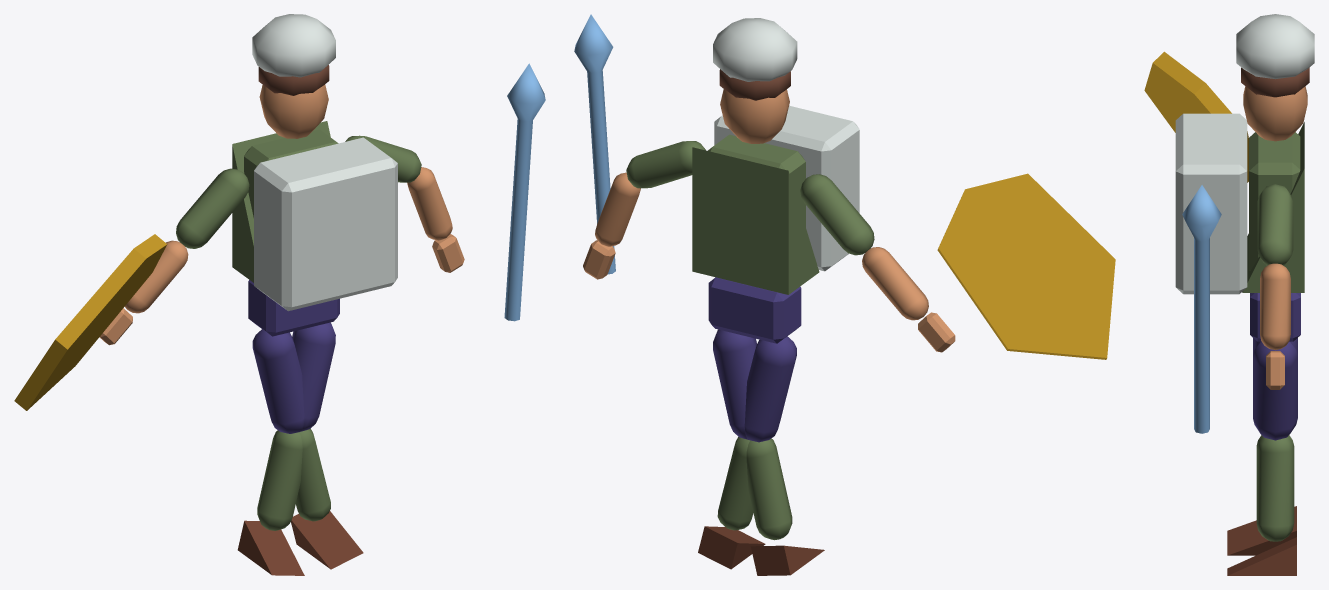
Rendered from adventurer.rustic.glb.
The picture shows the model from 3 angles, left to right: view 1: azimuth 30°, elevation 25°; view 2: azimuth 150°, elevation 25°; view 3: azimuth 270°, elevation 25°; orthographic projection.
Visible parts, largest first — view 1: accessory.body, accessory.off-hand, accessory.main-hand, accessory.head, thigh.left, shin.right, upper-arm.left, thigh.right, head, pelvis, foot.left, tunic (+8 smaller); view 2: accessory.off-hand, tunic, accessory.body, pelvis, accessory.head, thigh.left, accessory.main-hand, shin.right, upper-arm.left, thigh.right, head, forearm.left (+9 smaller); view 3: accessory.body, accessory.main-hand, accessory.head, shin.left, accessory.off-hand, thigh.right, torso, upper-arm.right, head, forearm.right, tunic, foot.left (+4 smaller).
Part boxes in pixels (box(x1,y1,x2,y2)): accessory.body: box(254, 137, 397, 311); accessory.off-hand: box(14, 234, 167, 410); accessory.main-hand: box(504, 63, 545, 321); accessory.head: box(252, 14, 335, 77); thigh.left: box(252, 329, 304, 433); shin.right: box(257, 430, 302, 530); upper-arm.left: box(176, 168, 249, 248); thigh.right: box(292, 322, 335, 431); head: box(259, 84, 328, 138); pelvis: box(248, 280, 339, 336); foot.left: box(291, 511, 363, 569); tunic: box(232, 121, 330, 282); accessory.off-hand: box(937, 173, 1115, 359); tunic: box(692, 147, 819, 294); accessory.body: box(714, 105, 859, 271); pelvis: box(708, 277, 801, 343); accessory.head: box(713, 18, 797, 81); thigh.left: box(744, 336, 796, 442); accessory.main-hand: box(574, 14, 615, 274); shin.right: box(746, 438, 792, 540); upper-arm.left: box(800, 174, 874, 255); thigh.right: box(713, 329, 756, 439); head: box(720, 89, 789, 143); forearm.left: box(862, 247, 928, 320); accessory.body: box(1175, 113, 1247, 294); accessory.main-hand: box(1182, 185, 1221, 433); accessory.head: box(1236, 14, 1314, 79); shin.left: box(1256, 436, 1294, 541); accessory.off-hand: box(1144, 51, 1248, 182); thigh.right: box(1253, 341, 1297, 440); torso: box(1249, 132, 1300, 270); upper-arm.right: box(1257, 184, 1293, 265); head: box(1243, 86, 1307, 141); forearm.right: box(1260, 263, 1290, 349); tunic: box(1242, 122, 1304, 292); foot.left: box(1227, 537, 1296, 575).
Bounding box in the file's own units: 3.28 × 3.18 × 0.9041.
